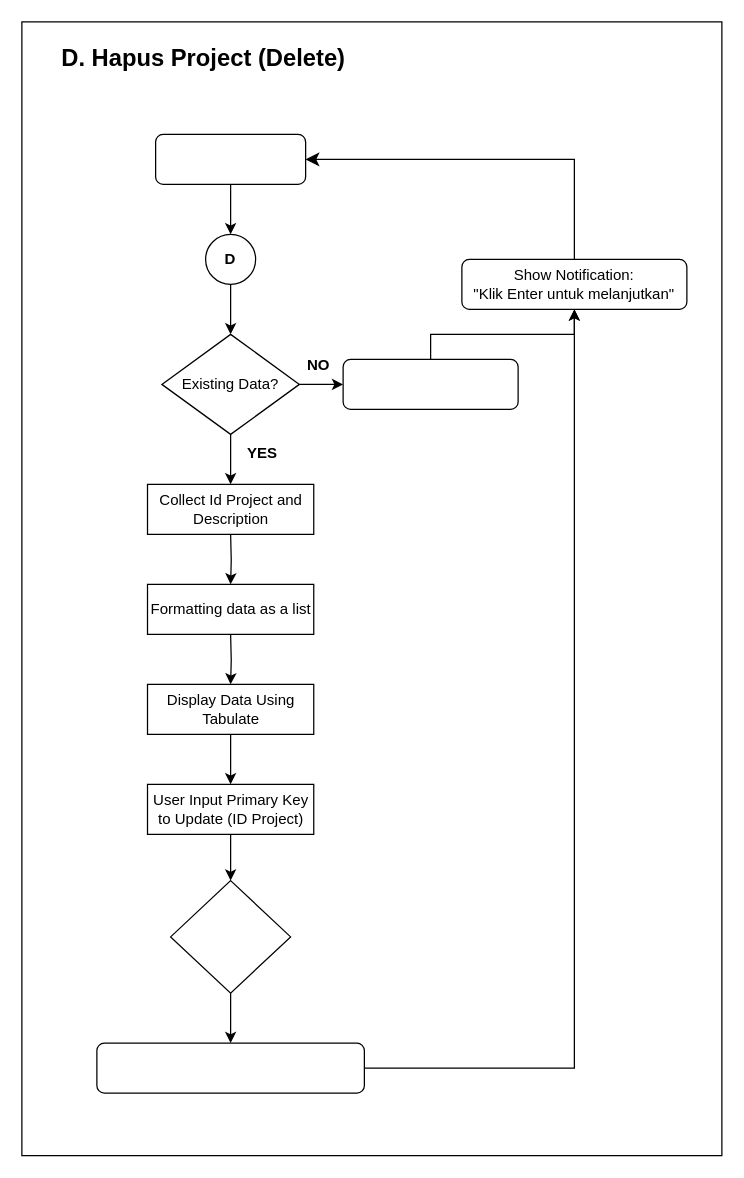
Image size: 744x1178. Some labels were removed from this diagram. Here are the shapes that lost their labels. From the top down, the centre of each, then its label:
point 230,158: Main Menu
point 430,383: Show Notification: "Belum ada Project"
point 230,936: Delete Data
point 230,1067: Show Notification: "Project Berhasil Dihapus!"
